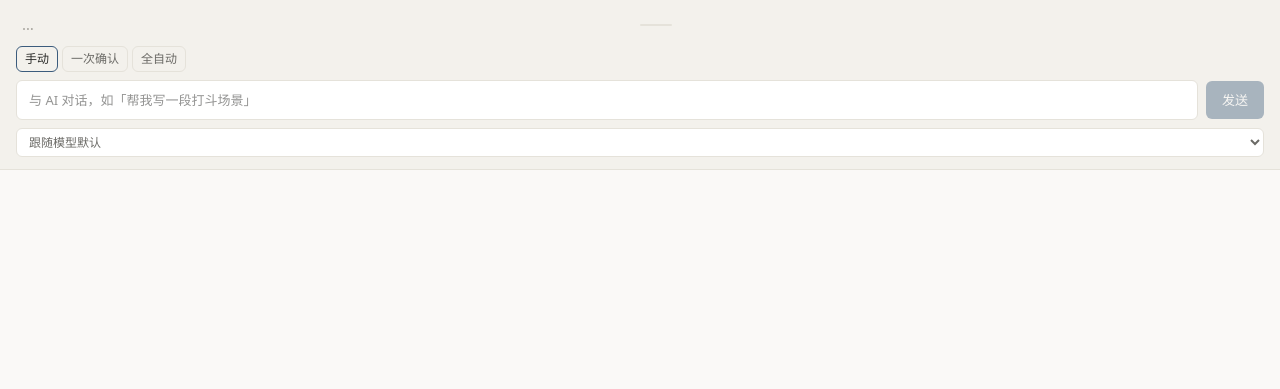
Scenario: ChatPanel — #1161 C3 用户消息 id 回填 › C3：save 返回 id → 删除按钮 testid 切换 chat-msg-delete-<id>；点击 → deleteChatMessage(id) + 本地移除
Type "待删消息" into the text box with test id "chat-input" at x=607, y=100, box x1=16 y1=80 x2=1198 y2=120
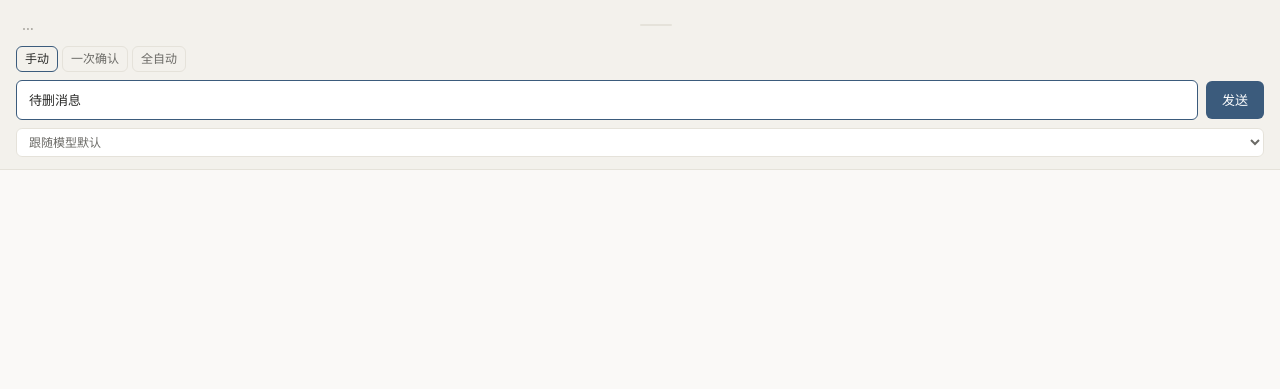
Click the button with test id "chat-send" at x=1235, y=100, box x1=1206 y1=81 x2=1264 y2=119
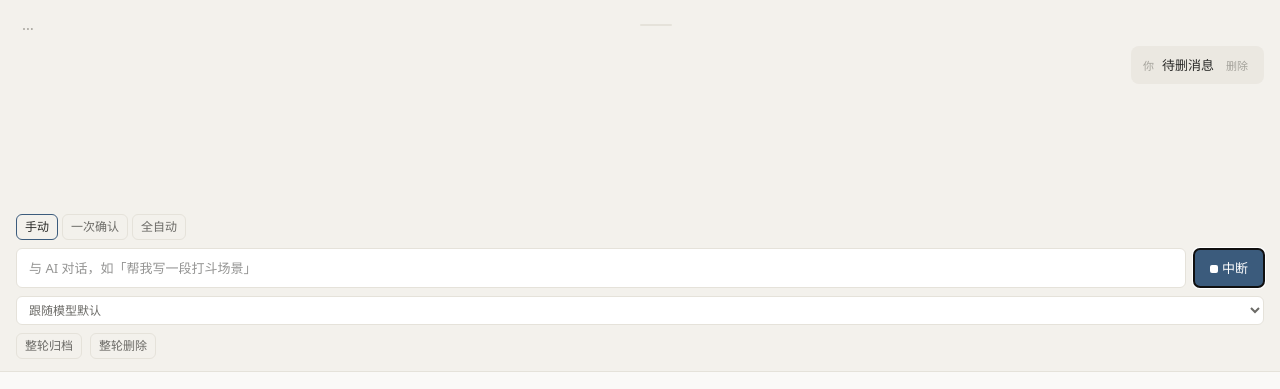
Expected: the button with test id "chat-msg-delete-user-0" is shown
Expected: the button with test id "chat-msg-delete-m-9" is shown
Click the button with test id "chat-msg-delete-m-9" at x=1237, y=66, box x1=1222 y1=56 x2=1252 y2=75
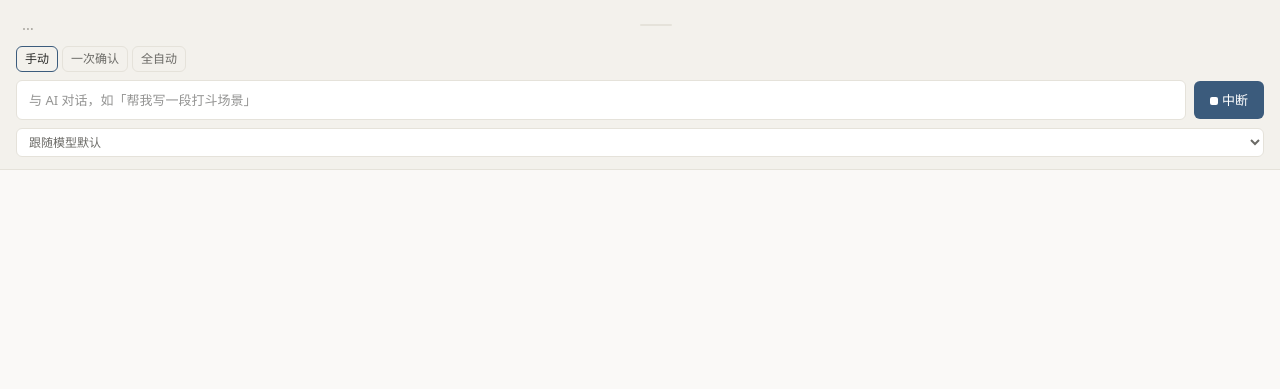
Expected: the element with test id "chat-msg-user-0" is gone
